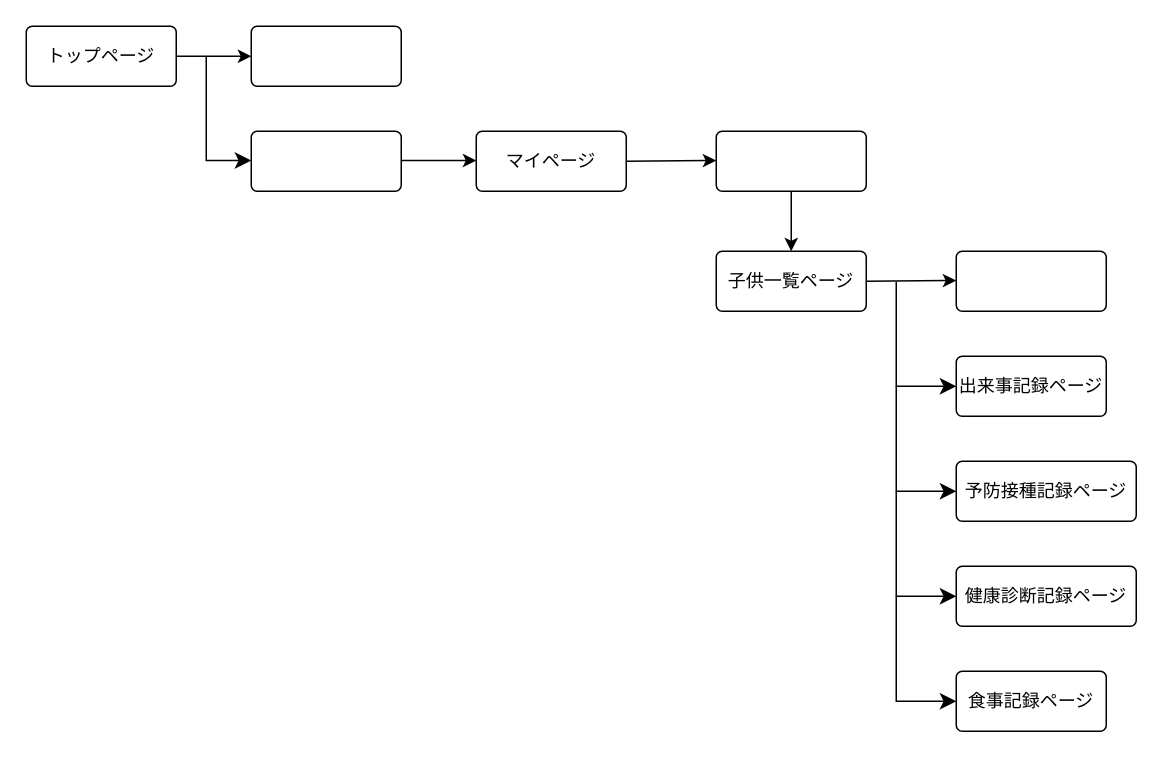
This 1163x758 diagram has some shape labels left out. The box of each missing label's shape, as (x1, y1, x2, y2) in pixels:
ログインページ: (250, 130, 401, 191)
子供追加ページ: (715, 130, 866, 191)
成長記録ページ: (955, 250, 1106, 311)
新新規登録: (250, 25, 401, 86)
